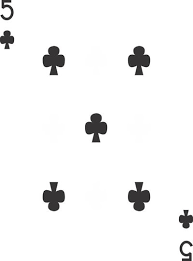five of clubs: (3, 3, 193, 259)
